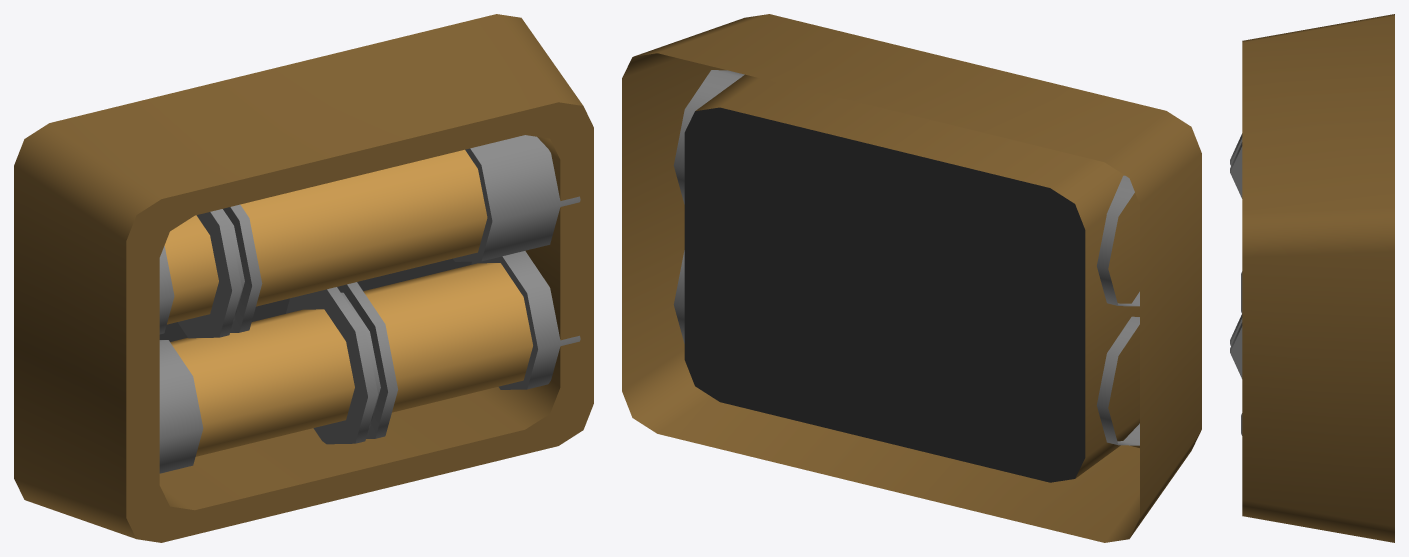
Rendered from Details_Pipes_Small.gltf.
3 renders of one model, left to right at view 1: azimuth 30°, elevation 25°; view 2: azimuth 150°, elevation 25°; view 3: azimuth 270°, elevation 25°, orthographic. The views are drawn at different scales.
Visible parts, largest first — view 1: Details_Pipes_Small; view 2: Details_Pipes_Small; view 3: Details_Pipes_Small.
Boxes of the visible parts, left/top/right/bottom form: Details_Pipes_Small: left=14, top=14, right=593, bottom=542; Details_Pipes_Small: left=622, top=14, right=1201, bottom=542; Details_Pipes_Small: left=1230, top=14, right=1394, bottom=542.
Size of the model in its own units: 0.3504 by 0.2462 by 0.1102.
